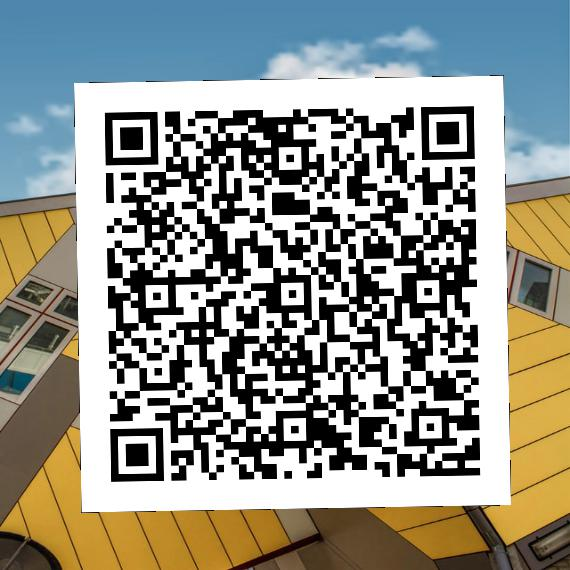qr_code: (74, 76, 510, 512)
